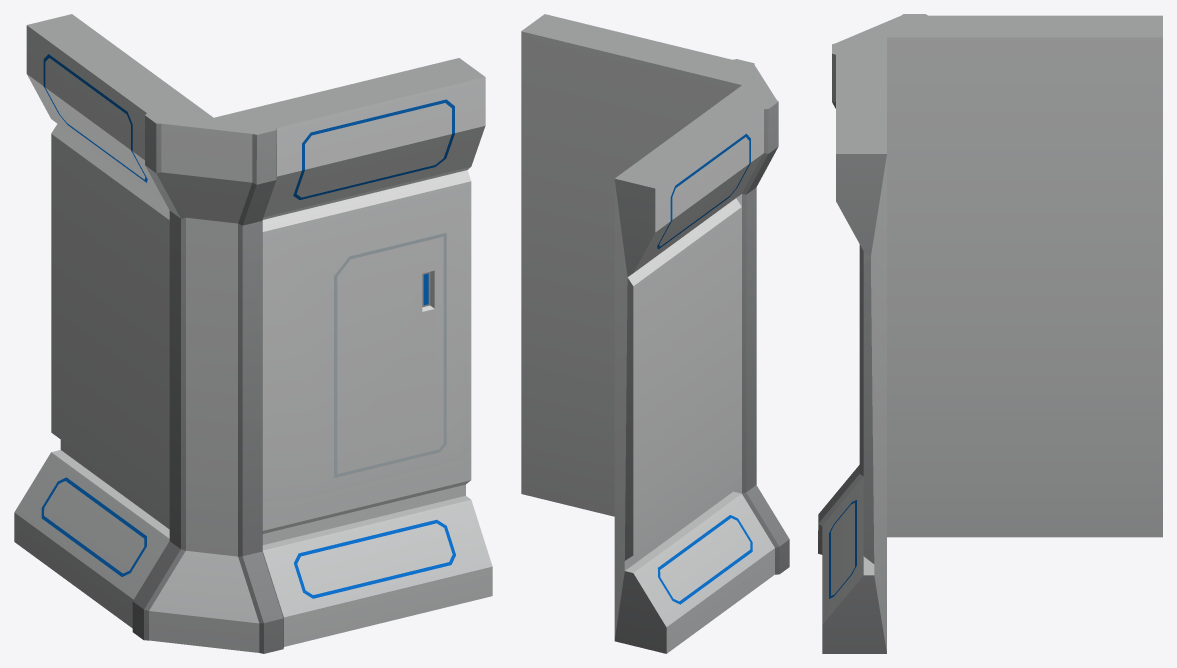
The model's file is Wall_type_A_001.fbx.
The picture shows the model from 3 angles, left to right: view 1: azimuth 30°, elevation 25°; view 2: azimuth 150°, elevation 25°; view 3: azimuth 270°, elevation 25°; orthographic projection. The views are drawn at different scales.
Parts seen in each view (by area): view 1: Wall_type_A_001; view 2: Wall_type_A_001; view 3: Wall_type_A_001.
Boxes of the visible parts, x1,y1,x2,y2 form: Wall_type_A_001: (14, 14, 492, 653); Wall_type_A_001: (521, 14, 789, 653); Wall_type_A_001: (818, 14, 1162, 653).
Bounding box in the file's own units: 250 × 250 × 400.
